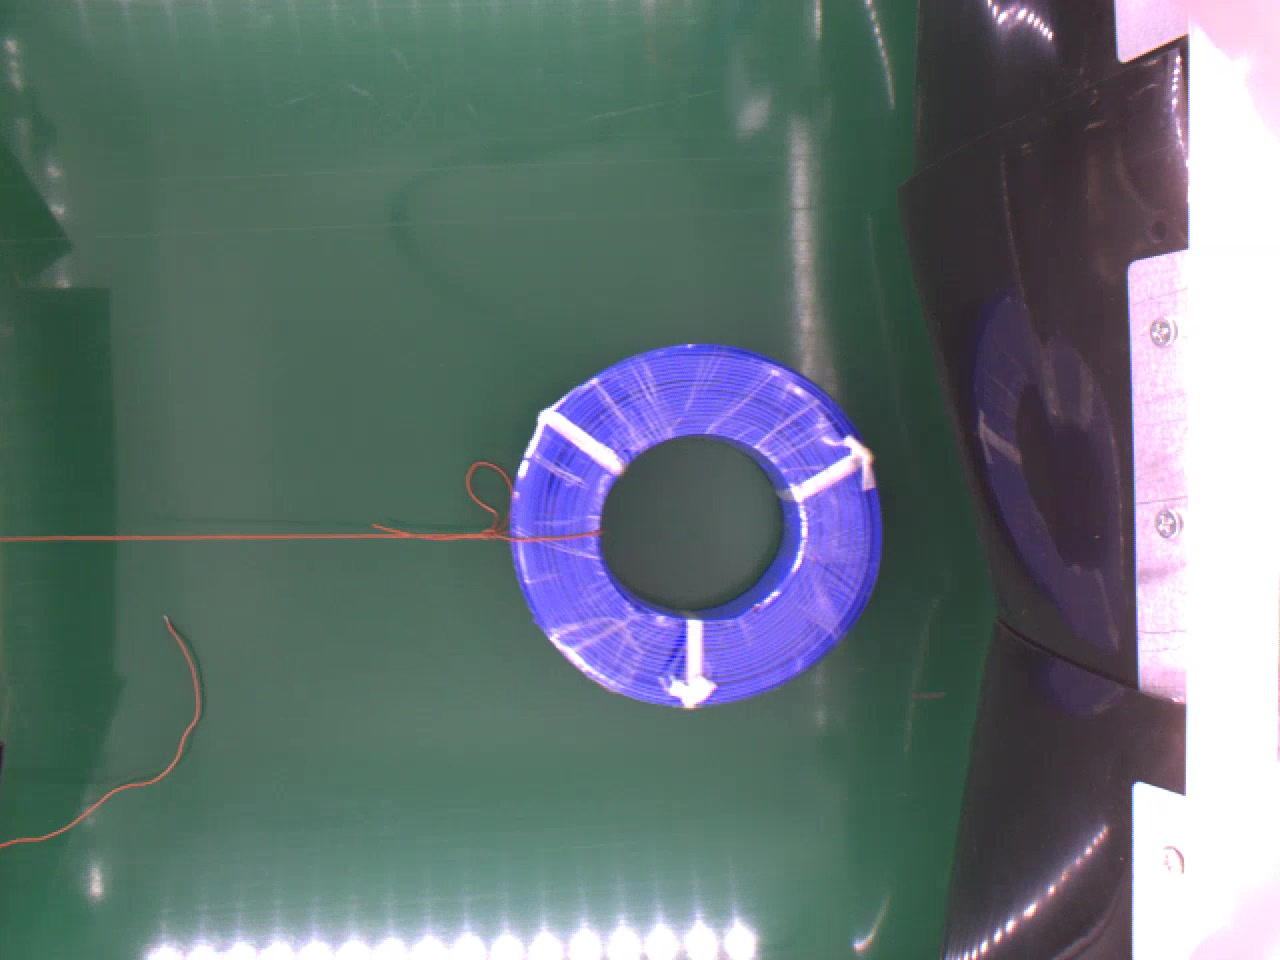blue: (506, 336, 884, 711)
